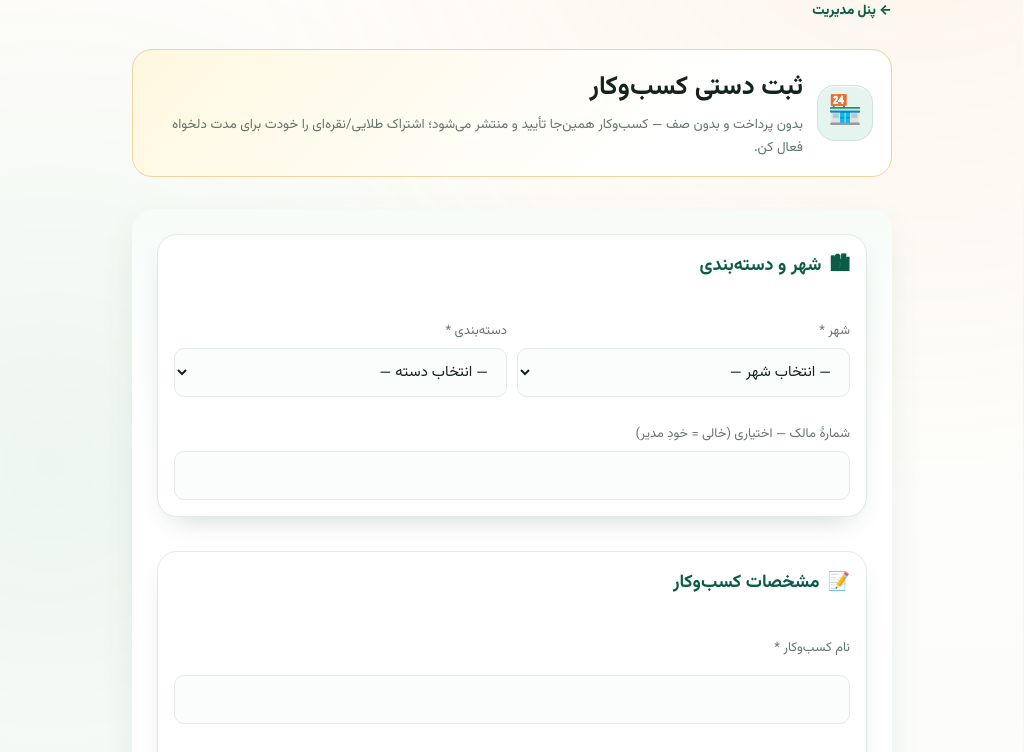
Test: AdminBusinessCreate (ثبت دستی کسب‌وکار — صفحهٔ جدا) › loads the pickers and frames the map on the selected city
Select "شهر نمونه" in the dropdown with test id "nb-city" at [684, 372], box [517,348,850,397]
(page scrolled)
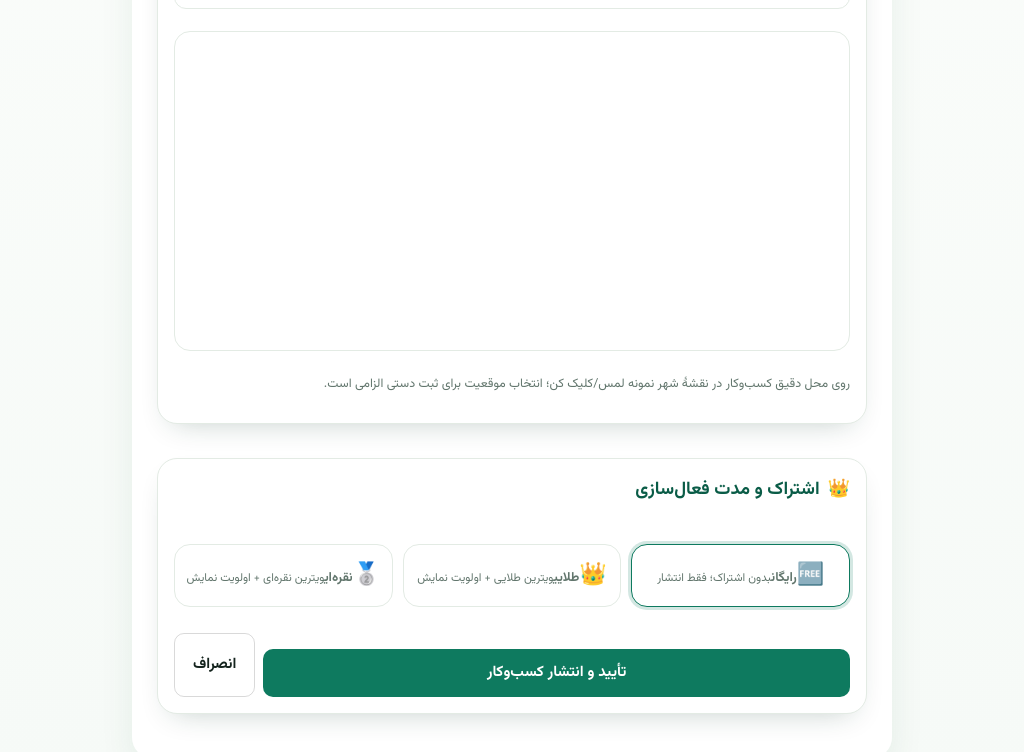
Expected: the element with test id "nb-map" is shown, [174,31,850,351]
Expected: the text with test id "nb-pin" shows "روی محل دقیق کسب‌وکار", [324,374,850,394]
